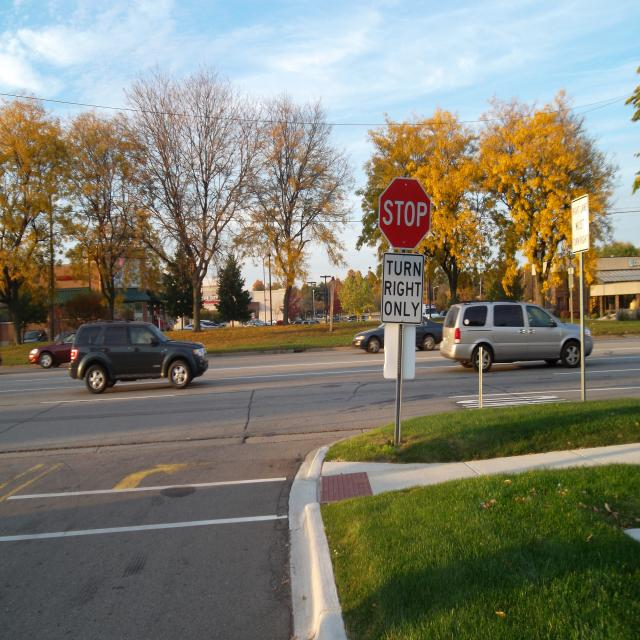regulatory: (382, 252, 424, 324), (570, 195, 591, 255)
stop: (378, 177, 432, 250)
